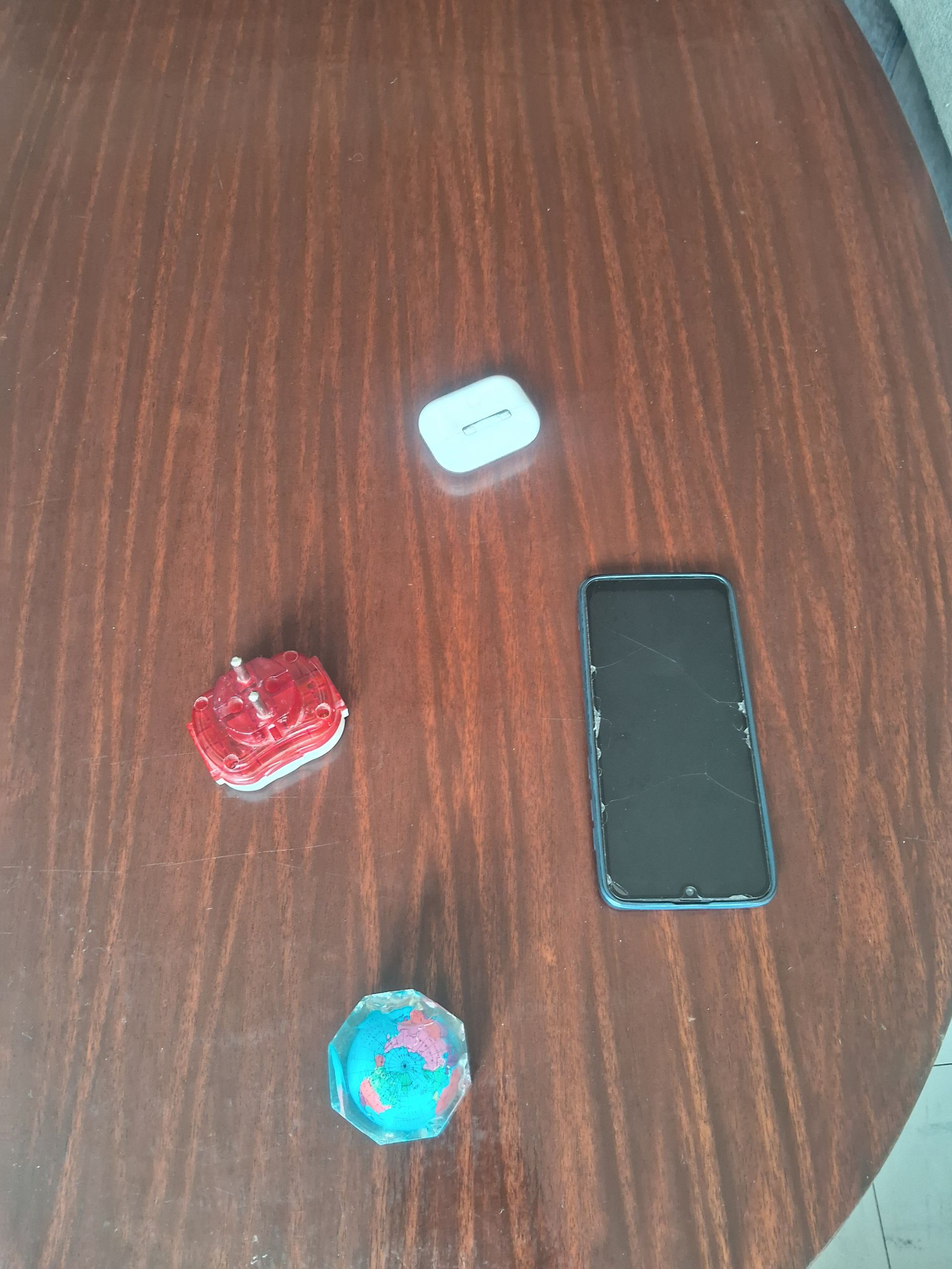Air_pod: (416, 366, 543, 474)
Multi_adapter: (180, 645, 354, 795), (354, 718, 364, 720)
Smart_phone: (573, 563, 786, 915)
world_globe: (315, 978, 479, 1153)
